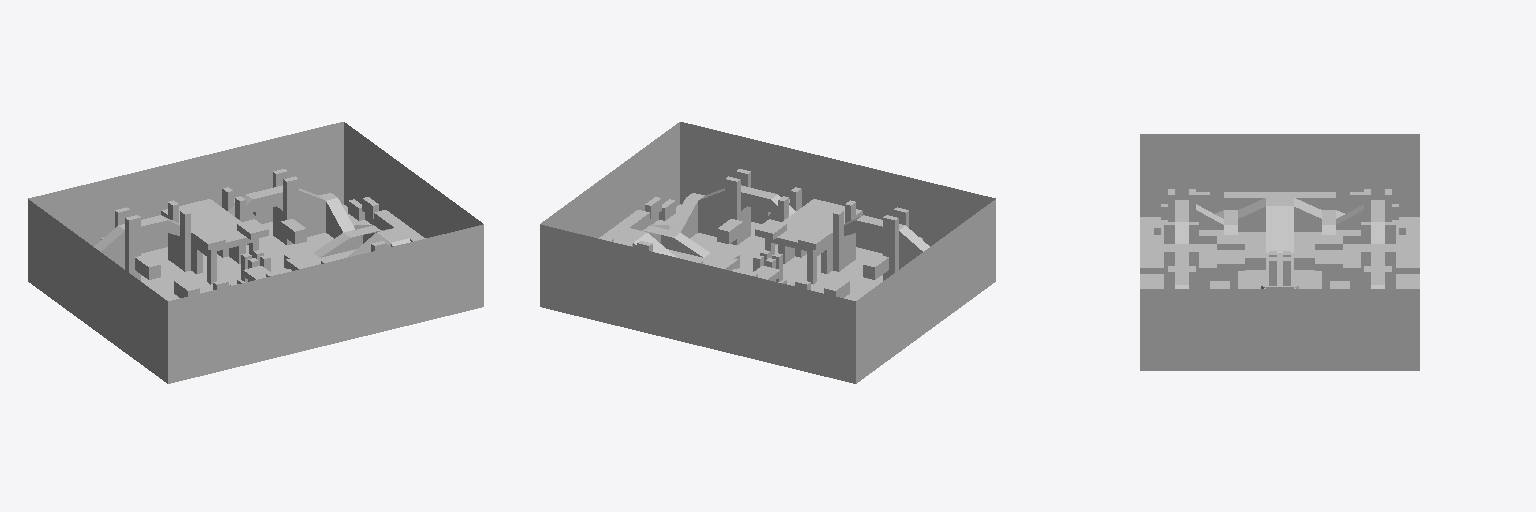
File: Reaper Rumble Map.obj
The picture shows the model from 3 angles: view 1: azimuth 30°, elevation 25°; view 2: azimuth 150°, elevation 25°; view 3: azimuth 270°, elevation 25°; orthographic projection.
Parts seen in each view (by area): view 1: Plane; view 2: Plane; view 3: Plane.
Part boxes in pixels (x1,y1,x2,y2): Plane: (28, 122, 483, 383); Plane: (540, 122, 995, 383); Plane: (1140, 134, 1419, 370).
Bounding box in the file's own units: 52 × 14 × 40.